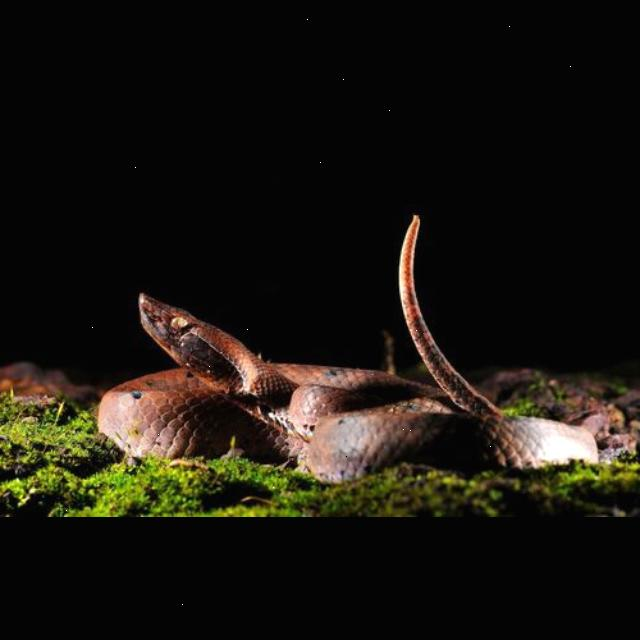snake: (86, 213, 598, 477)
